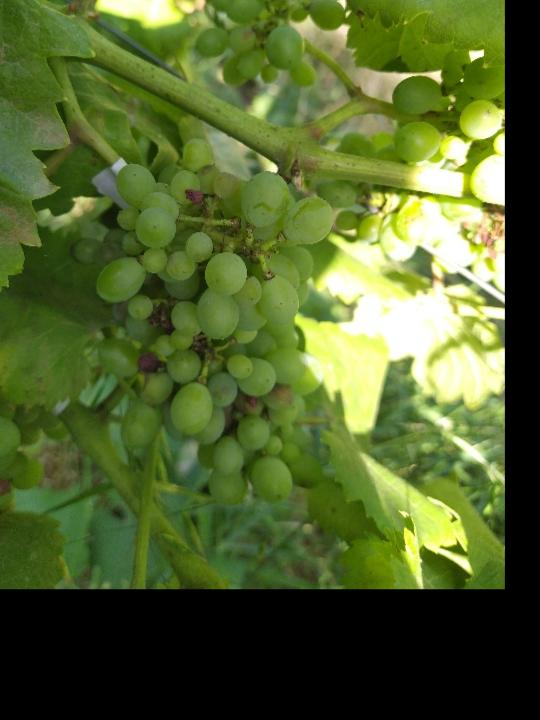grape: (69, 134, 367, 537), (196, 0, 349, 93)
